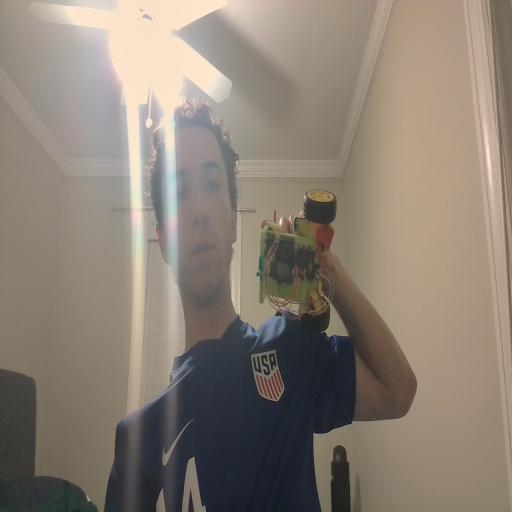green LEGO minifig: (256, 254, 267, 282)
